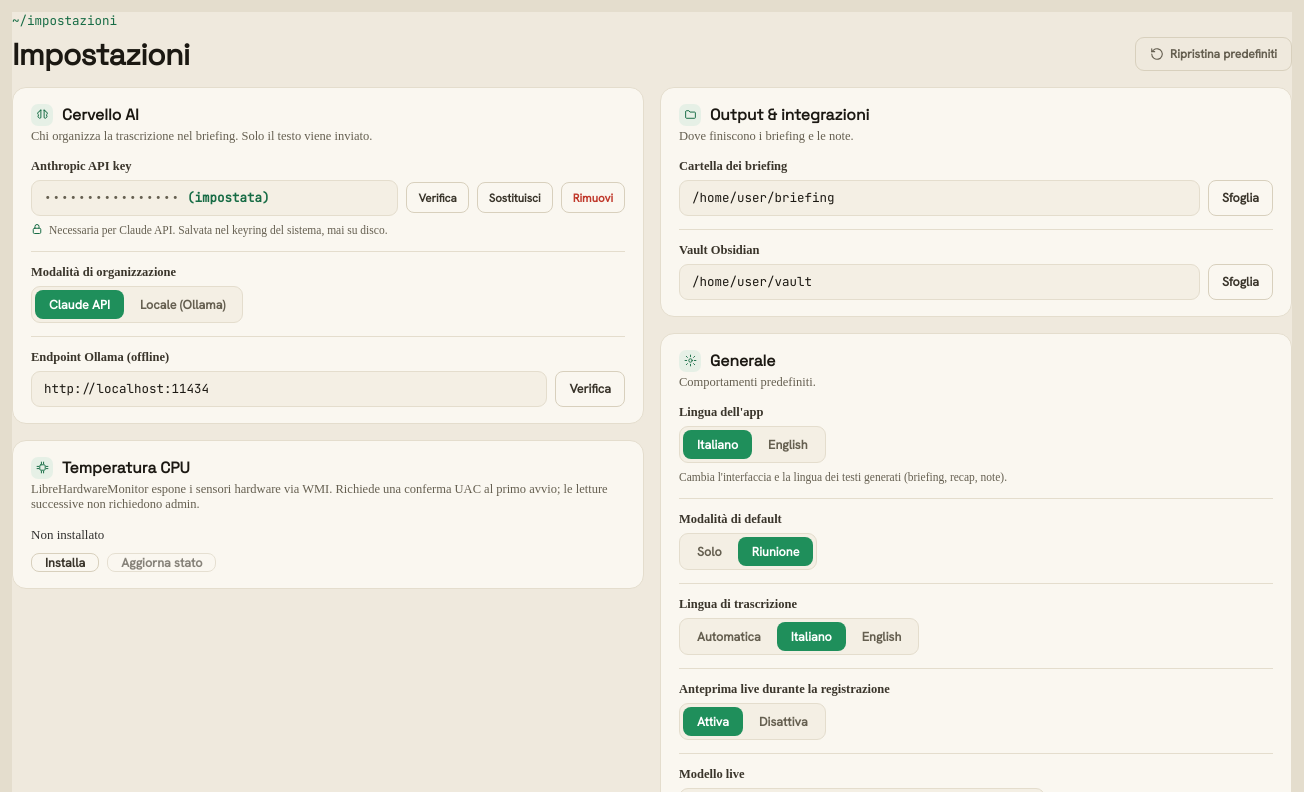
Test: ScreenSettings › B2: Ollama installato ma fermo → messaggio 'avvialo' (non 'installalo')
Click the 2nd button "Verifica" at (590, 389), box [555, 371, 625, 407]
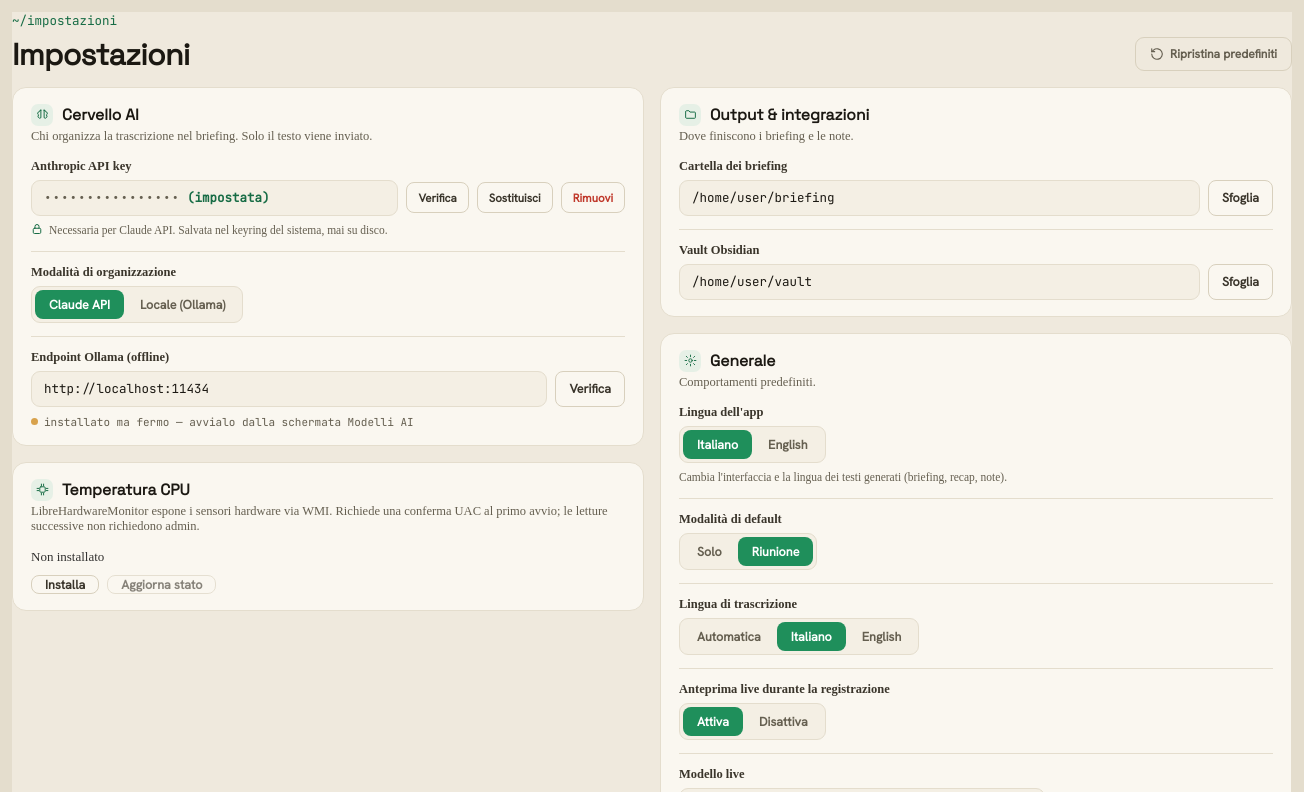
Expected: the text "installato ma fermo — avvialo dalla schermata Modelli AI" is shown, [31, 415, 414, 429]
